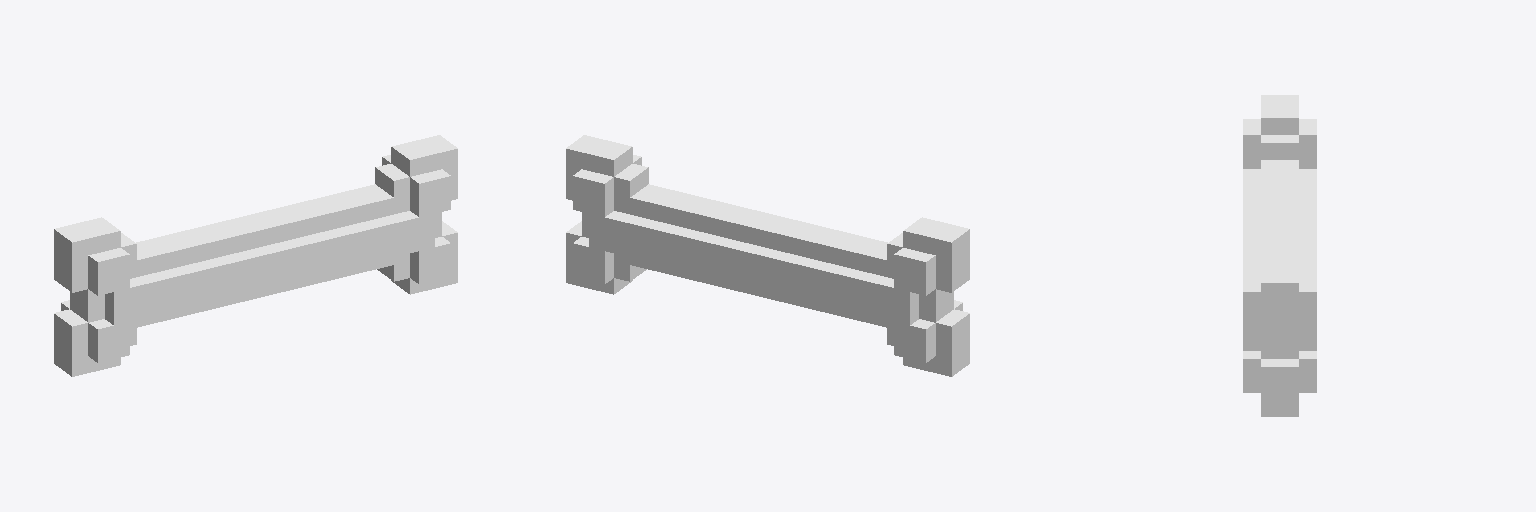
Rendered from Bone.obj.
3 views of the same model, side by side, from view 1: azimuth 30°, elevation 25°; view 2: azimuth 150°, elevation 25°; view 3: azimuth 270°, elevation 25° (orthographic).
Parts seen in each view (by area): view 1: Bone; view 2: Bone; view 3: Bone.
Boxes of the visible parts, x1,y1,x2,y2 form: Bone: [54, 135, 457, 376]; Bone: [566, 135, 969, 376]; Bone: [1243, 95, 1316, 416].
Size of the model in its own units: 24 by 8 by 4.